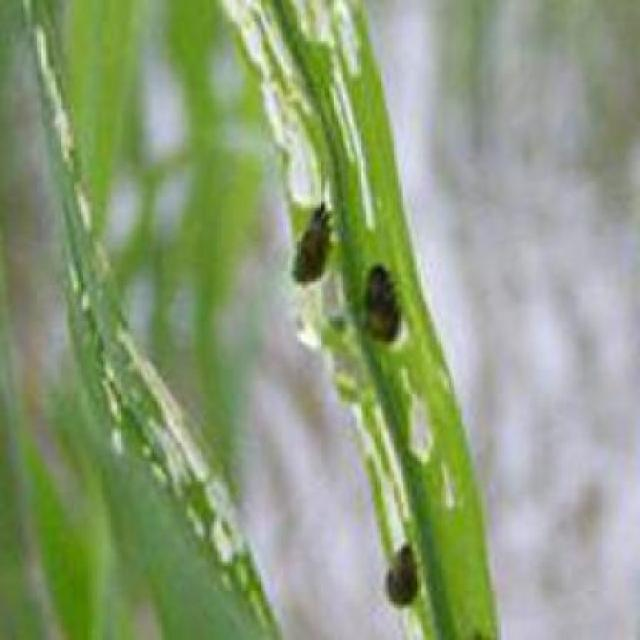rice-bug: (289, 202, 342, 284), (362, 262, 400, 342), (388, 542, 426, 608)
